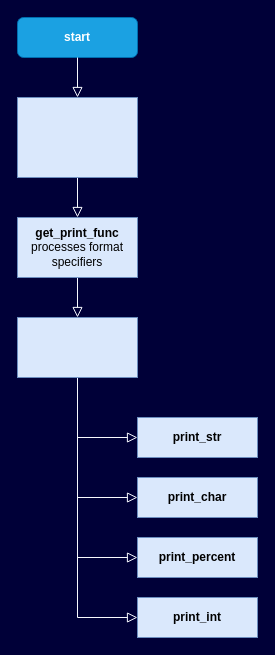
Some shapes in this 275 by 655 pixel diagram are drawn without their labels. The box of each missing label's shape, as (x1, y1, x2, y2) in pixels:
_printf prints regular elements of format string: (16, 96, 138, 178)
print_func calls matching print function: (16, 316, 138, 378)
